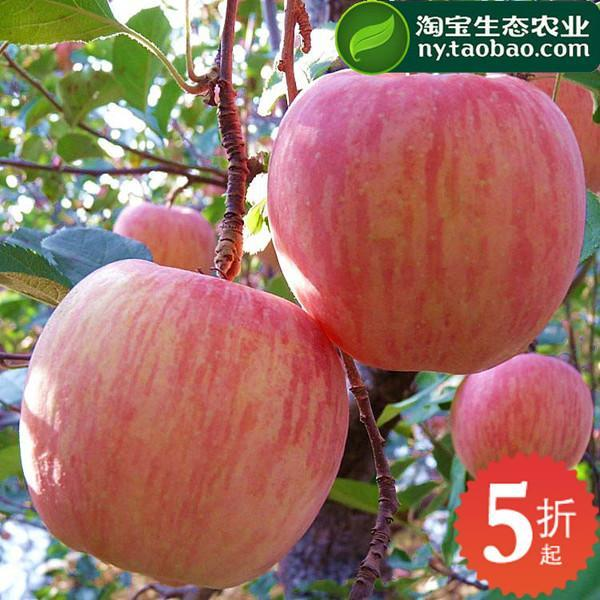apple: (251, 62, 592, 439), (15, 257, 365, 585), (448, 353, 595, 474)
